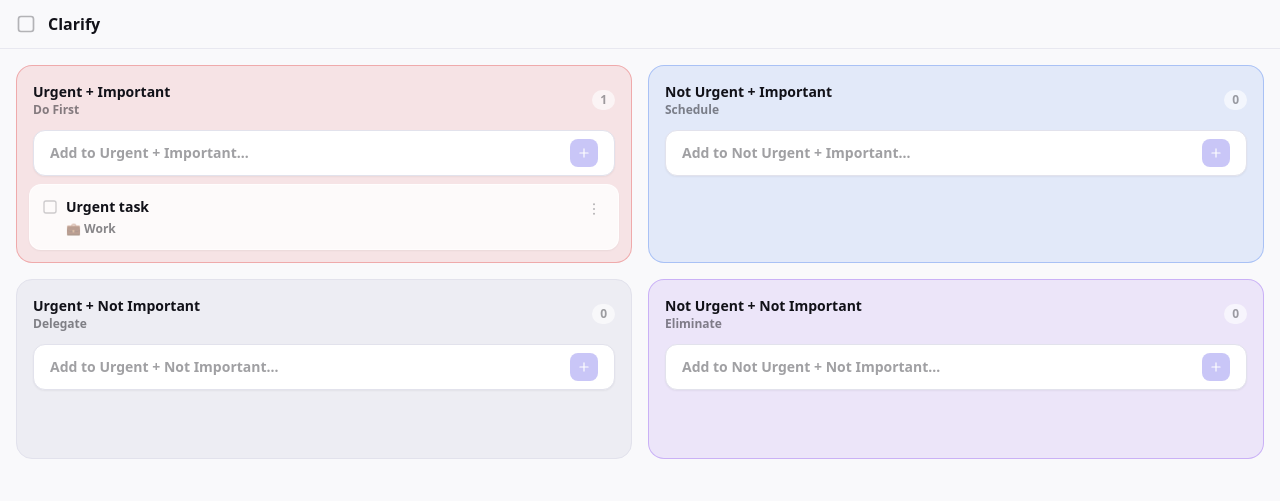
Scenario: Clarify › 4b-4: 3-dot menu opens with task options
Click the button named "Task options" at (594, 209), box [582, 197, 606, 221]
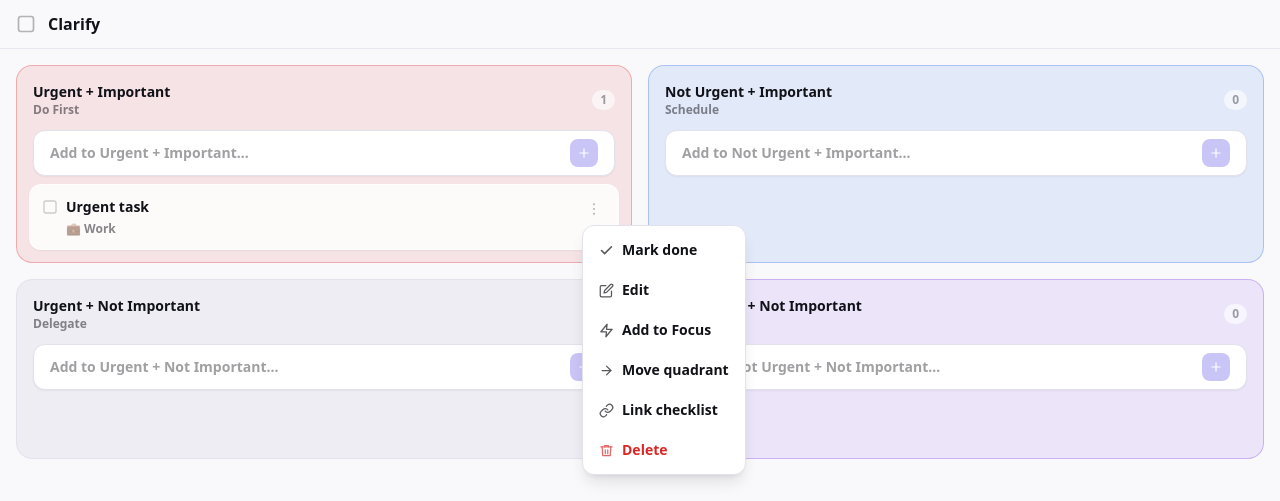
Check: the button "Edit" is shown, box [583, 270, 745, 310]
Check: the button "Delete" is shown, box [583, 430, 745, 470]
Check: the button "Add to Focus" is shown, box [583, 310, 745, 350]
